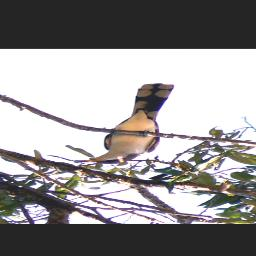Cuckoo: (74, 81, 179, 165)
